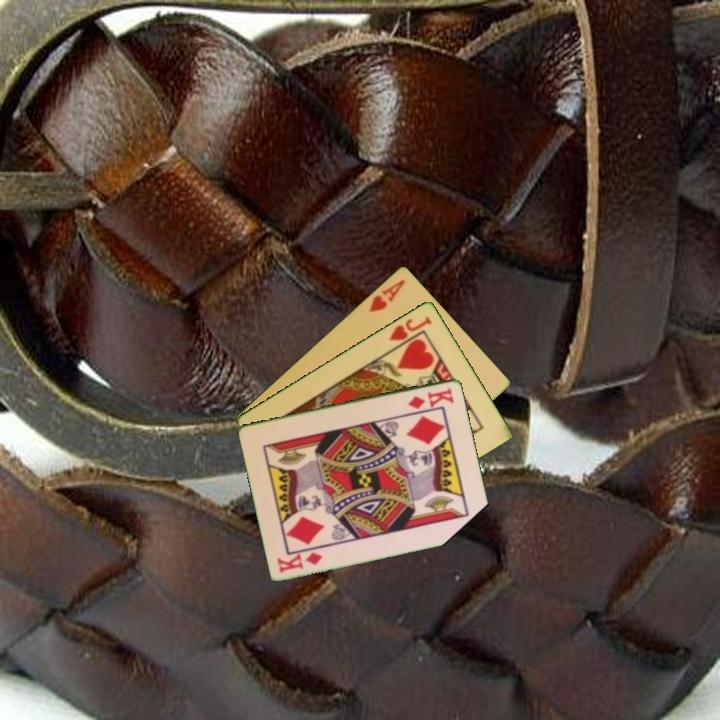Ah: (365, 275, 408, 315)
Jh: (385, 312, 435, 352)
Kd: (404, 384, 456, 412), (274, 548, 326, 576)
